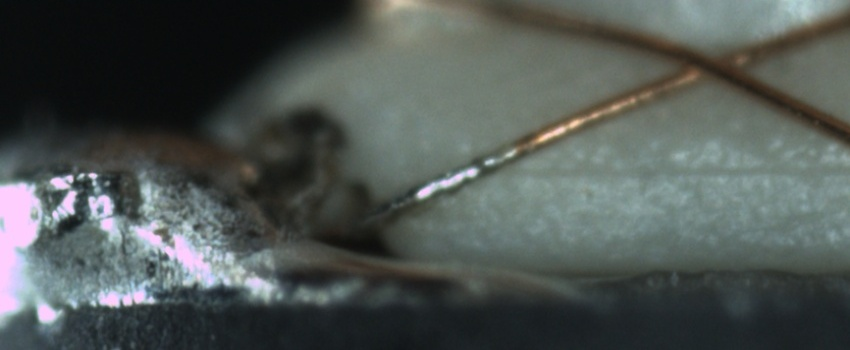CL: (648, 32, 773, 91)
DL: (487, 137, 850, 200)
TS: (327, 140, 521, 244)
